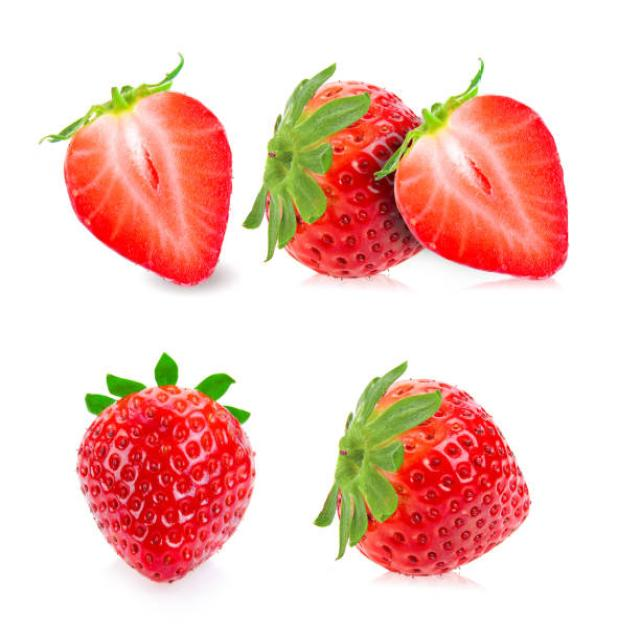Healthy Fruit: (334, 373, 533, 576), (76, 384, 252, 585), (63, 91, 233, 289), (397, 92, 571, 279), (262, 78, 422, 275)
